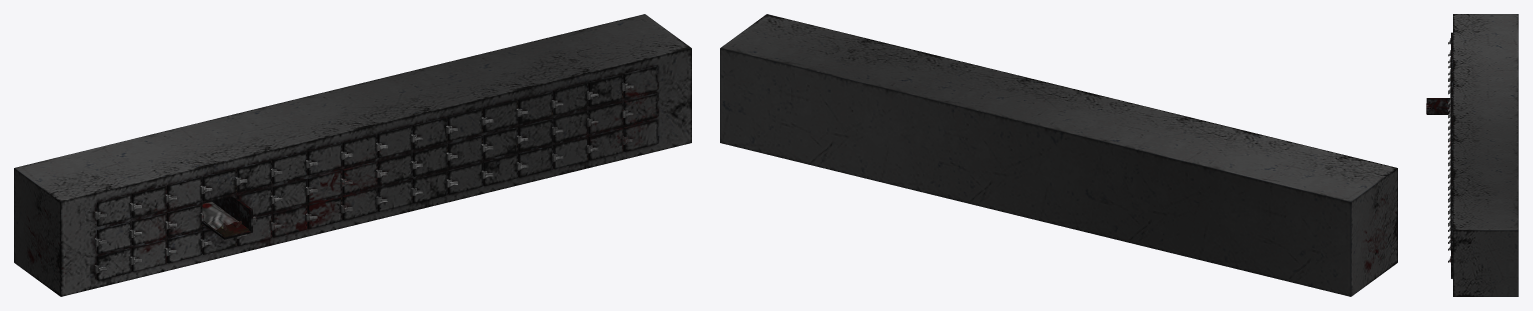
The model's file is Morgue_BodyStorage_EmbeddedMedia.fbx.
3 views of the same model, side by side, from view 1: azimuth 30°, elevation 25°; view 2: azimuth 150°, elevation 25°; view 3: azimuth 270°, elevation 25° (orthographic). The views are drawn at different scales.
Visible parts, largest first — view 1: Body Storage Simple, Closed Door047, Lock 003, Handle, Hinge, Lock 02, Blanket_low; view 2: Body Storage Simple; view 3: Body Storage Simple, Closed Door047, Handle, Lock 02, Hinge.
Part boxes in pixels (x1,y1,x2,y2): Body Storage Simple: (14,14,691,296); Closed Door047: (97,66,657,280); Lock 003: (94,82,625,273); Handle: (98,85,633,271); Hinge: (129,66,658,272); Lock 02: (98,83,627,272); Blanket_low: (202,201,241,229); Body Storage Simple: (720,14,1397,296); Body Storage Simple: (1453,14,1518,296); Closed Door047: (1426,32,1452,273); Handle: (1448,40,1450,262); Lock 02: (1426,39,1450,262); Hinge: (1451,43,1452,278).
Size of the model in its own units: 740 by 106 by 134.
Materials: 1 (1 with a texture image).
